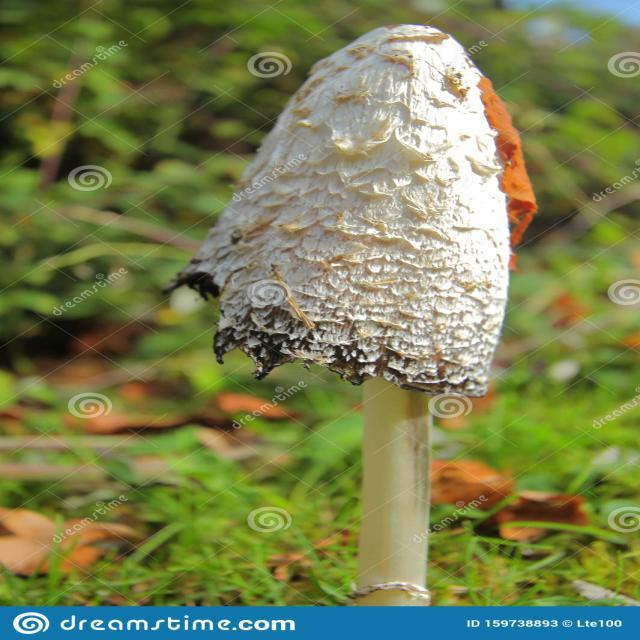Coprinus comatus: (191, 24, 539, 606)
